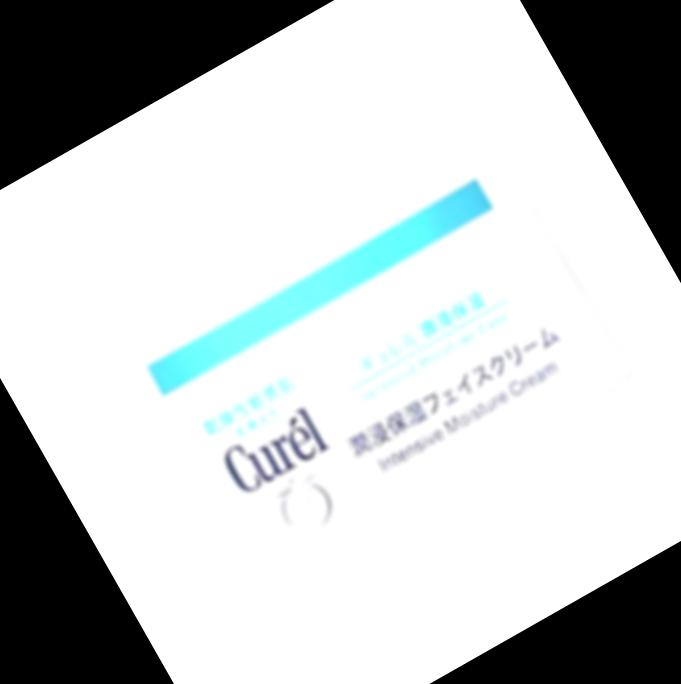cosmetic: (61, 80, 637, 608)
